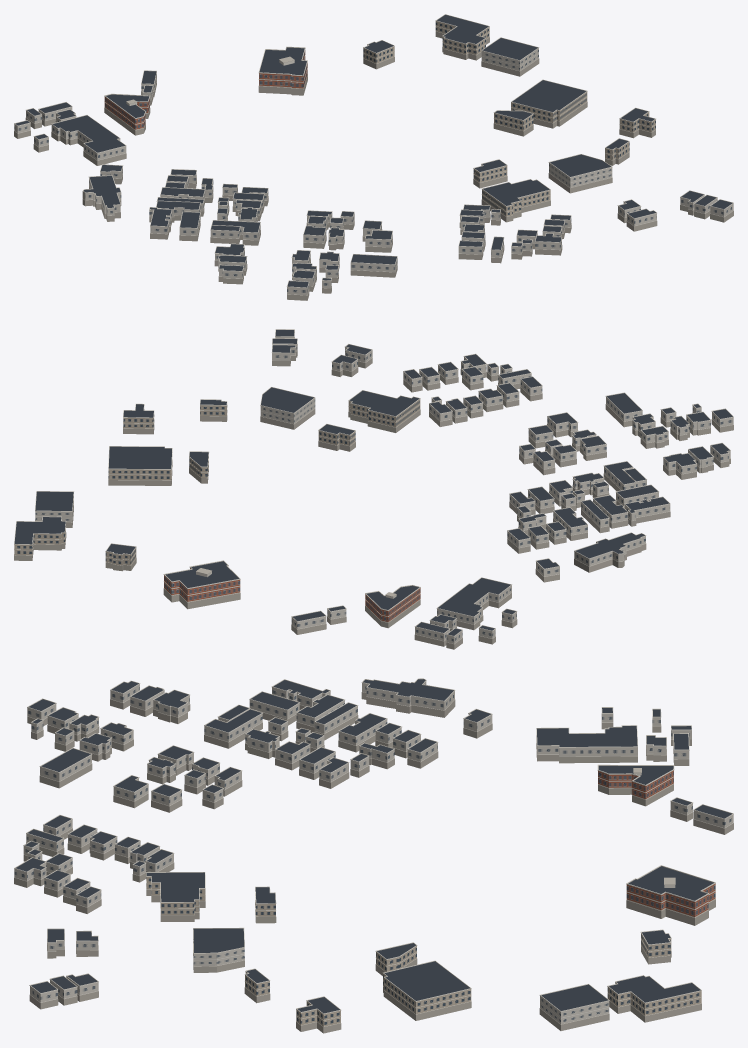
File: context-buildings.glb
3 views of the same model, one above another, from view 1: azimuth 30°, elevation 25°; view 2: azimuth 150°, elevation 25°; view 3: azimuth 270°, elevation 25° (orthographic). The views are drawn at different scales.
Parts seen in each view (by area): view 1: node_3, node_2, node_5, node_4, node_1, node_0; view 2: node_3, node_2, node_5, node_4, node_1, node_0; view 3: node_3, node_2, node_5, node_4, node_1, node_0.
Part boxes in pixels (x1=…): node_3: x1=15, y1=15, x2=732, y2=287; node_2: x1=14, y1=48, x2=733, y2=295; node_5: x1=14, y1=31, x2=733, y2=300; node_4: x1=14, y1=14, x2=733, y2=288; node_1: x1=363, y1=21, x2=655, y2=216; node_0: x1=104, y1=50, x2=307, y2=130; node_3: x1=14, y1=330, x2=732, y2=635; node_2: x1=35, y1=337, x2=733, y2=643; node_5: x1=14, y1=337, x2=733, y2=649; node_4: x1=14, y1=329, x2=733, y2=636; node_1: x1=14, y1=399, x2=420, y2=565; node_0: x1=164, y1=568, x2=420, y2=622; node_3: x1=16, y1=679, x2=731, y2=1013; node_2: x1=14, y1=681, x2=733, y2=1024; node_5: x1=14, y1=692, x2=733, y2=1033; node_4: x1=14, y1=678, x2=733, y2=1020; node_1: x1=146, y1=877, x2=701, y2=1026; node_0: x1=598, y1=770, x2=715, y2=917.
Size of the model in its own units: 413 by 35.33 by 402.
Materials: 6 (3 with a texture image).
